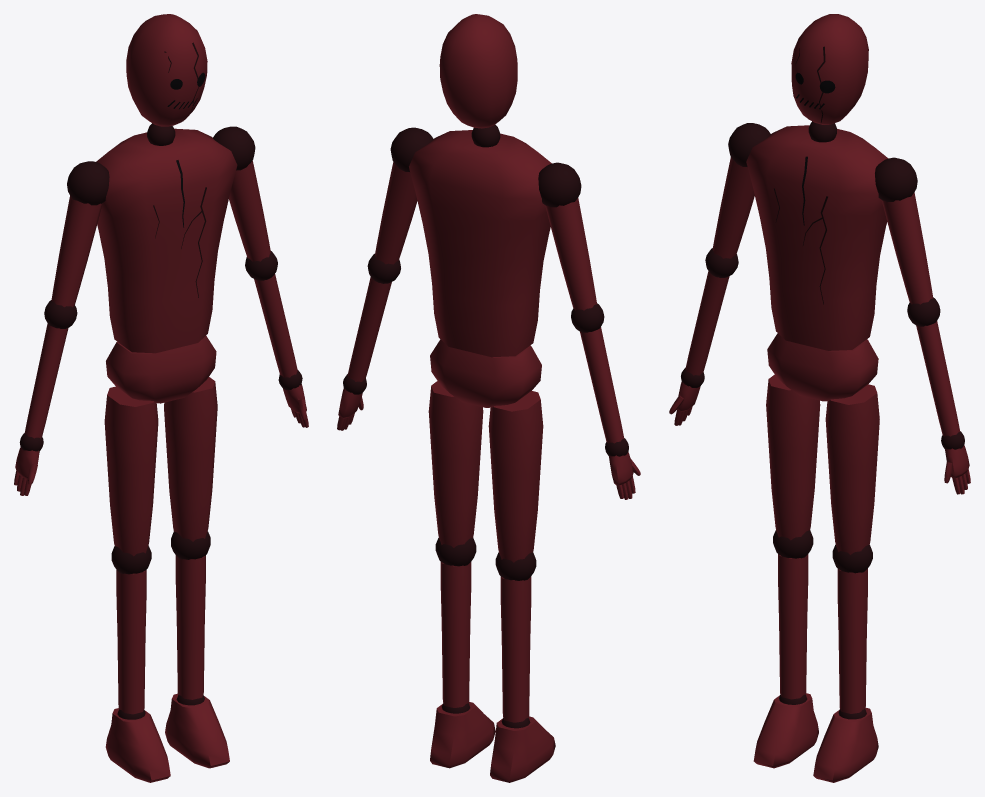
Rendered from puppet_v02.glb.
3 views of the same model, side by side, from view 1: azimuth 30°, elevation 25°; view 2: azimuth 150°, elevation 25°; view 3: azimuth 330°, elevation 25° (orthographic).
Parts seen in each view (by area): view 1: PuppetV2_Body, PuppetV2_Leg_L, PuppetV2_Leg_R, PuppetV2_Arm_L, PuppetV2_Arm_R; view 2: PuppetV2_Body, PuppetV2_Leg_L, PuppetV2_Leg_R, PuppetV2_Arm_L, PuppetV2_Arm_R; view 3: PuppetV2_Body, PuppetV2_Leg_R, PuppetV2_Leg_L, PuppetV2_Arm_R, PuppetV2_Arm_L.
Boxes of the visible parts, <box> form: PuppetV2_Body: <box>96,14,237,403</box>; PuppetV2_Leg_L: <box>104,386,170,782</box>; PuppetV2_Leg_R: <box>164,377,229,768</box>; PuppetV2_Arm_L: <box>14,161,109,495</box>; PuppetV2_Arm_R: <box>213,126,308,427</box>; PuppetV2_Body: <box>409,14,551,407</box>; PuppetV2_Leg_L: <box>488,391,555,782</box>; PuppetV2_Leg_R: <box>428,381,495,768</box>; PuppetV2_Arm_L: <box>538,162,640,499</box>; PuppetV2_Arm_R: <box>337,127,433,430</box>; PuppetV2_Body: <box>746,14,888,401</box>; PuppetV2_Leg_R: <box>813,384,879,782</box>; PuppetV2_Leg_L: <box>753,374,820,768</box>; PuppetV2_Arm_R: <box>875,157,970,494</box>; PuppetV2_Arm_L: <box>669,123,770,425</box>.
Bounding box in the file's own units: 0.7116 × 1.75 × 0.223.
